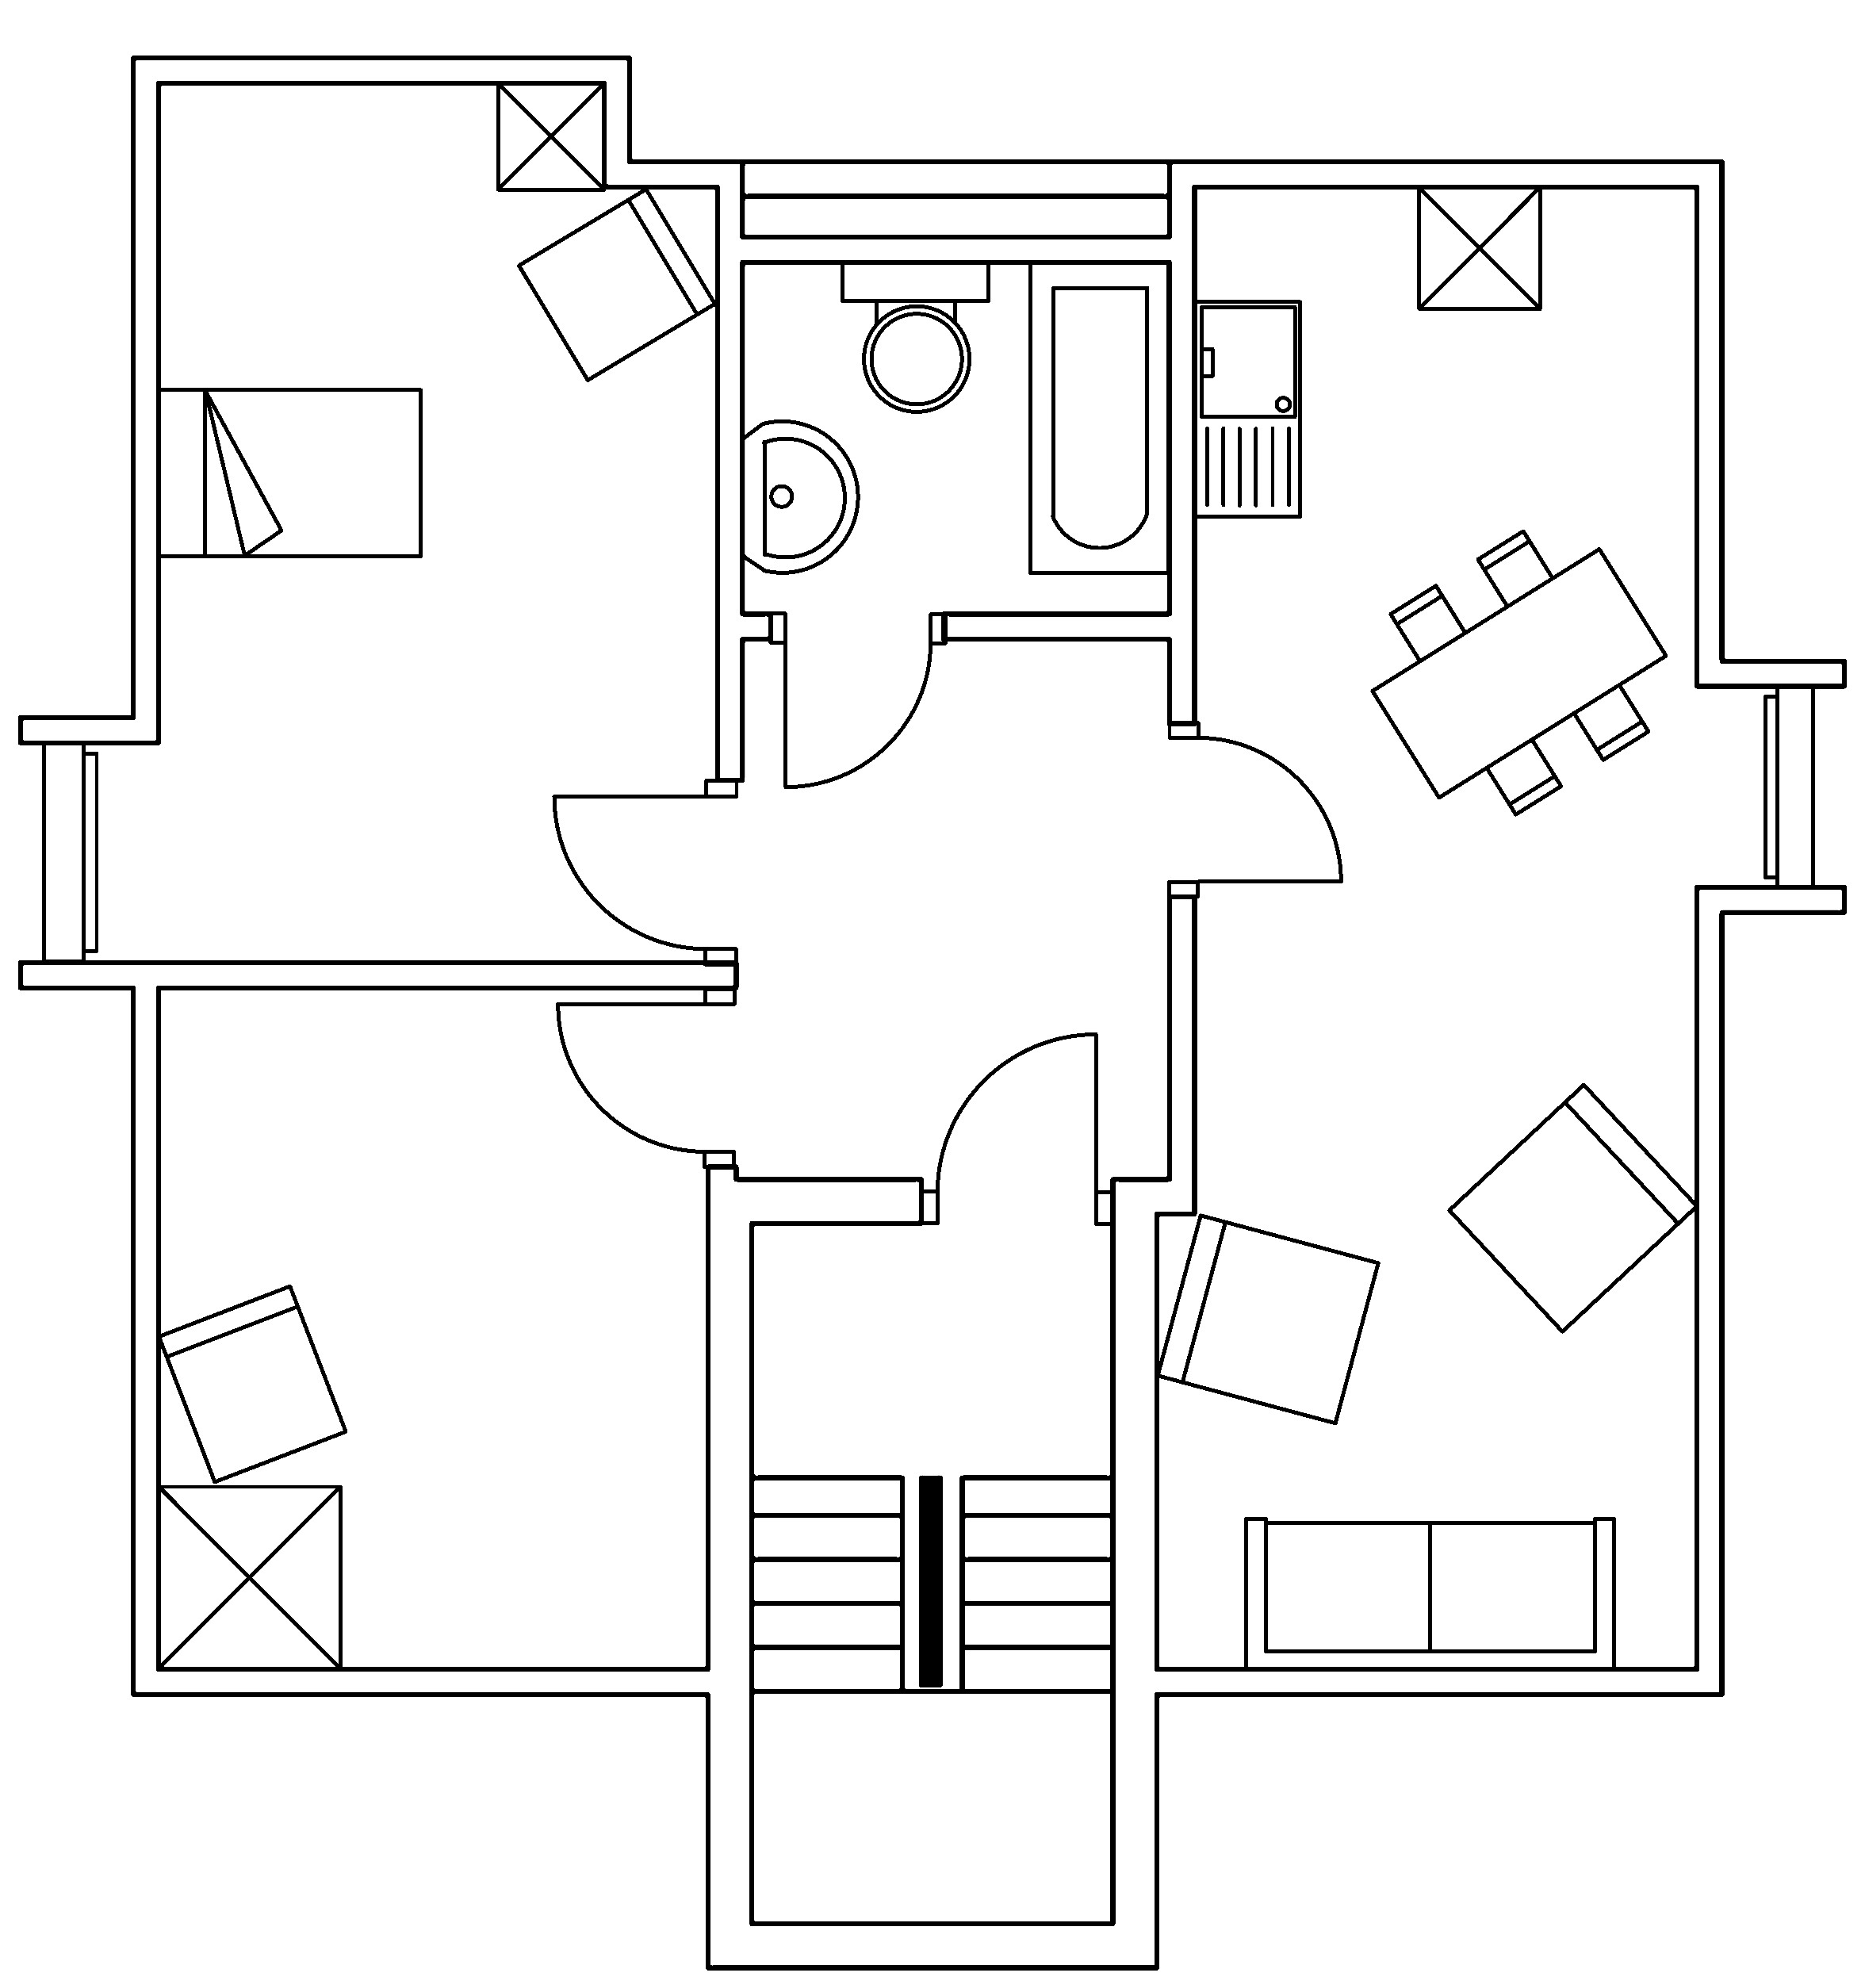bed: (154, 386, 424, 559)
coffee_table: (154, 1481, 342, 1671), (1416, 182, 1542, 310), (494, 79, 606, 191)
dining_table: (1369, 528, 1669, 817)
large_sink: (840, 258, 990, 412)
large_sofa: (1243, 1515, 1616, 1672)
sink: (1192, 298, 1302, 519)
small_sink: (740, 419, 859, 573)
small_sofa: (1446, 1082, 1698, 1334), (1153, 1211, 1381, 1425), (515, 186, 717, 382), (156, 1282, 349, 1485)
tub: (1027, 258, 1171, 575)
